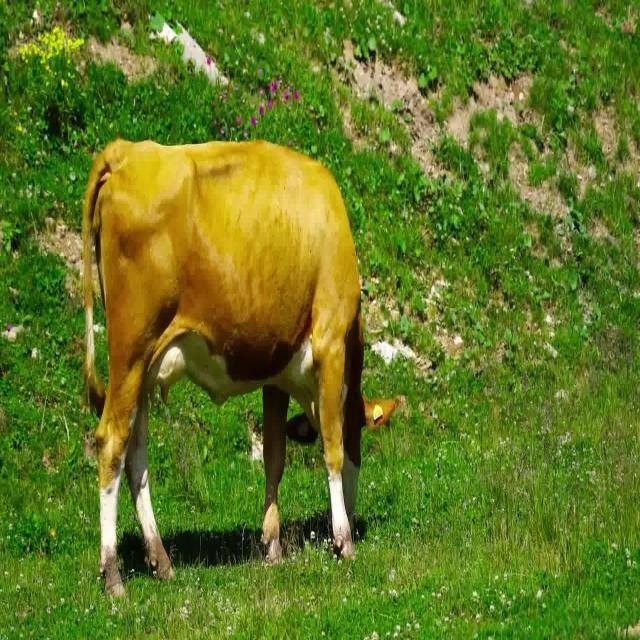cow: (84, 140, 398, 596)
